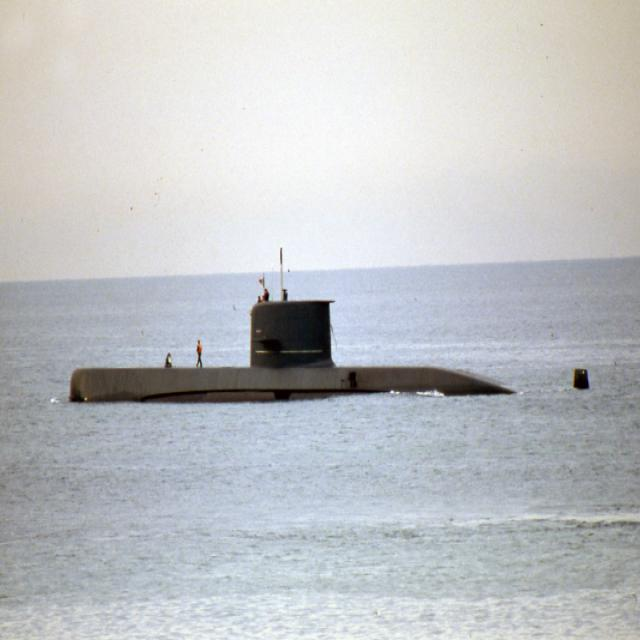submarine: (72, 244, 591, 405)
